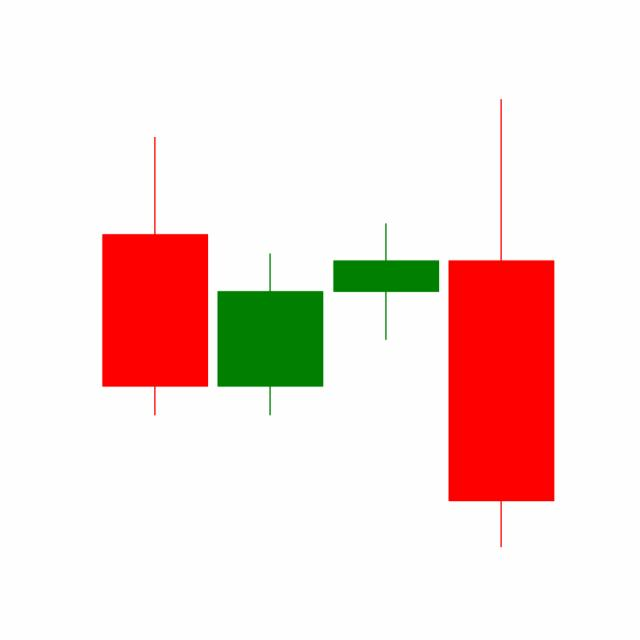Spinning Top: (328, 221, 444, 342)
